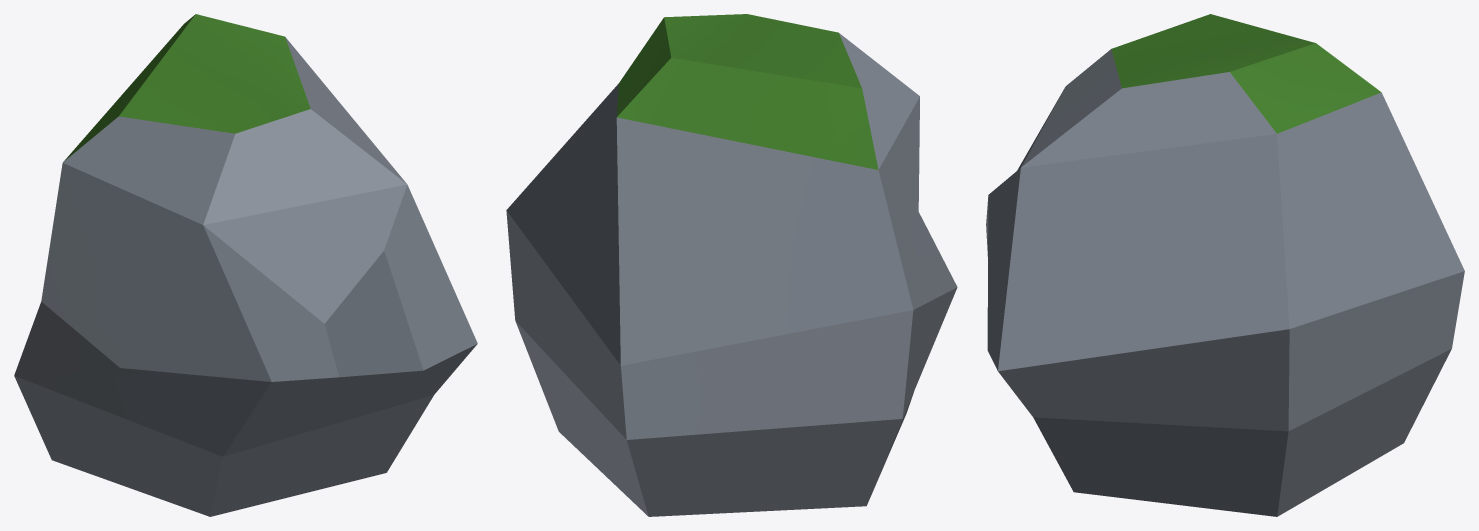
Rendered from stone_large.fbx.
3 renders of one model, left to right at view 1: azimuth 30°, elevation 25°; view 2: azimuth 150°, elevation 25°; view 3: azimuth 270°, elevation 25°, orthographic. The views are drawn at different scales.
Parts seen in each view (by area): view 1: Stone_Large; view 2: Stone_Large; view 3: Stone_Large.
Boxes of the visible parts, x1=… form: Stone_Large: x1=14, y1=14, x2=477, y2=516; Stone_Large: x1=506, y1=14, x2=957, y2=516; Stone_Large: x1=986, y1=14, x2=1464, y2=516.
Size of the model in its own units: 2.95 by 3.03 by 3.2.
